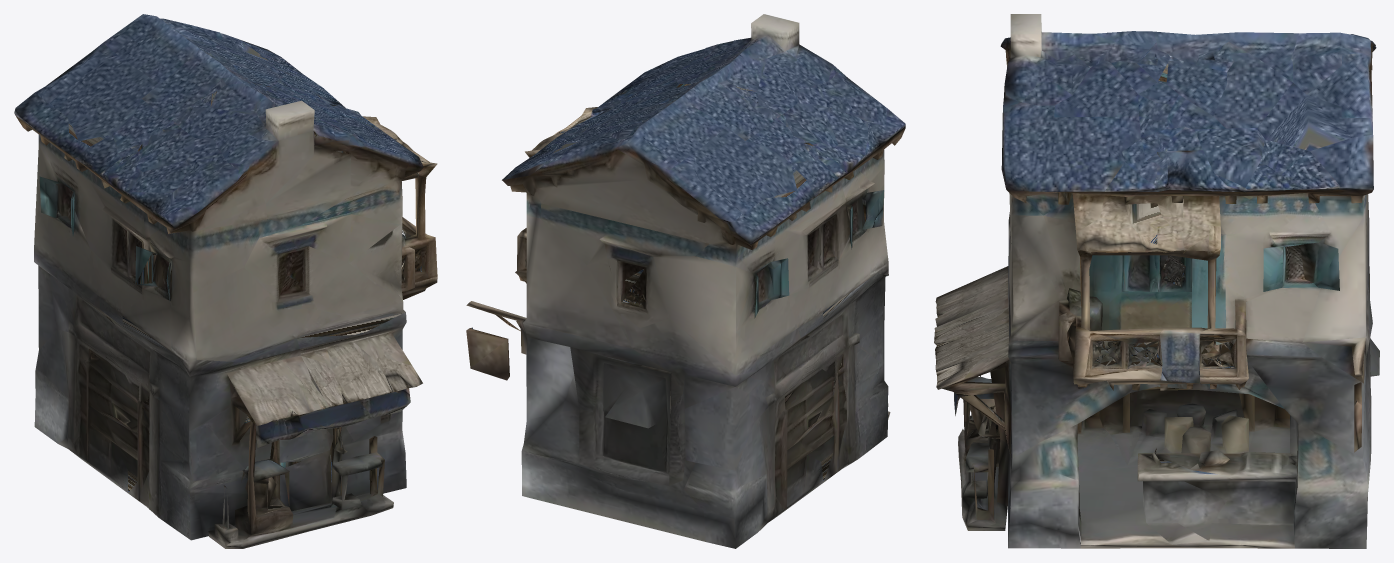
File: house_craftsman_0.glb
3 views of the same model, side by side, from view 1: azimuth 30°, elevation 25°; view 2: azimuth 150°, elevation 25°; view 3: azimuth 270°, elevation 25° (orthographic). The views are drawn at different scales.
Parts seen in each view (by area): view 1: house_craftsman_0; view 2: house_craftsman_0; view 3: house_craftsman_0.
Part boxes in pixels (bbox=[...]): house_craftsman_0: bbox=[14, 14, 437, 548]; house_craftsman_0: bbox=[466, 14, 905, 548]; house_craftsman_0: bbox=[934, 14, 1379, 548].
Size of the model in its own units: 0.767 by 0.9778 by 0.8538.
1 material, 1 textured.
